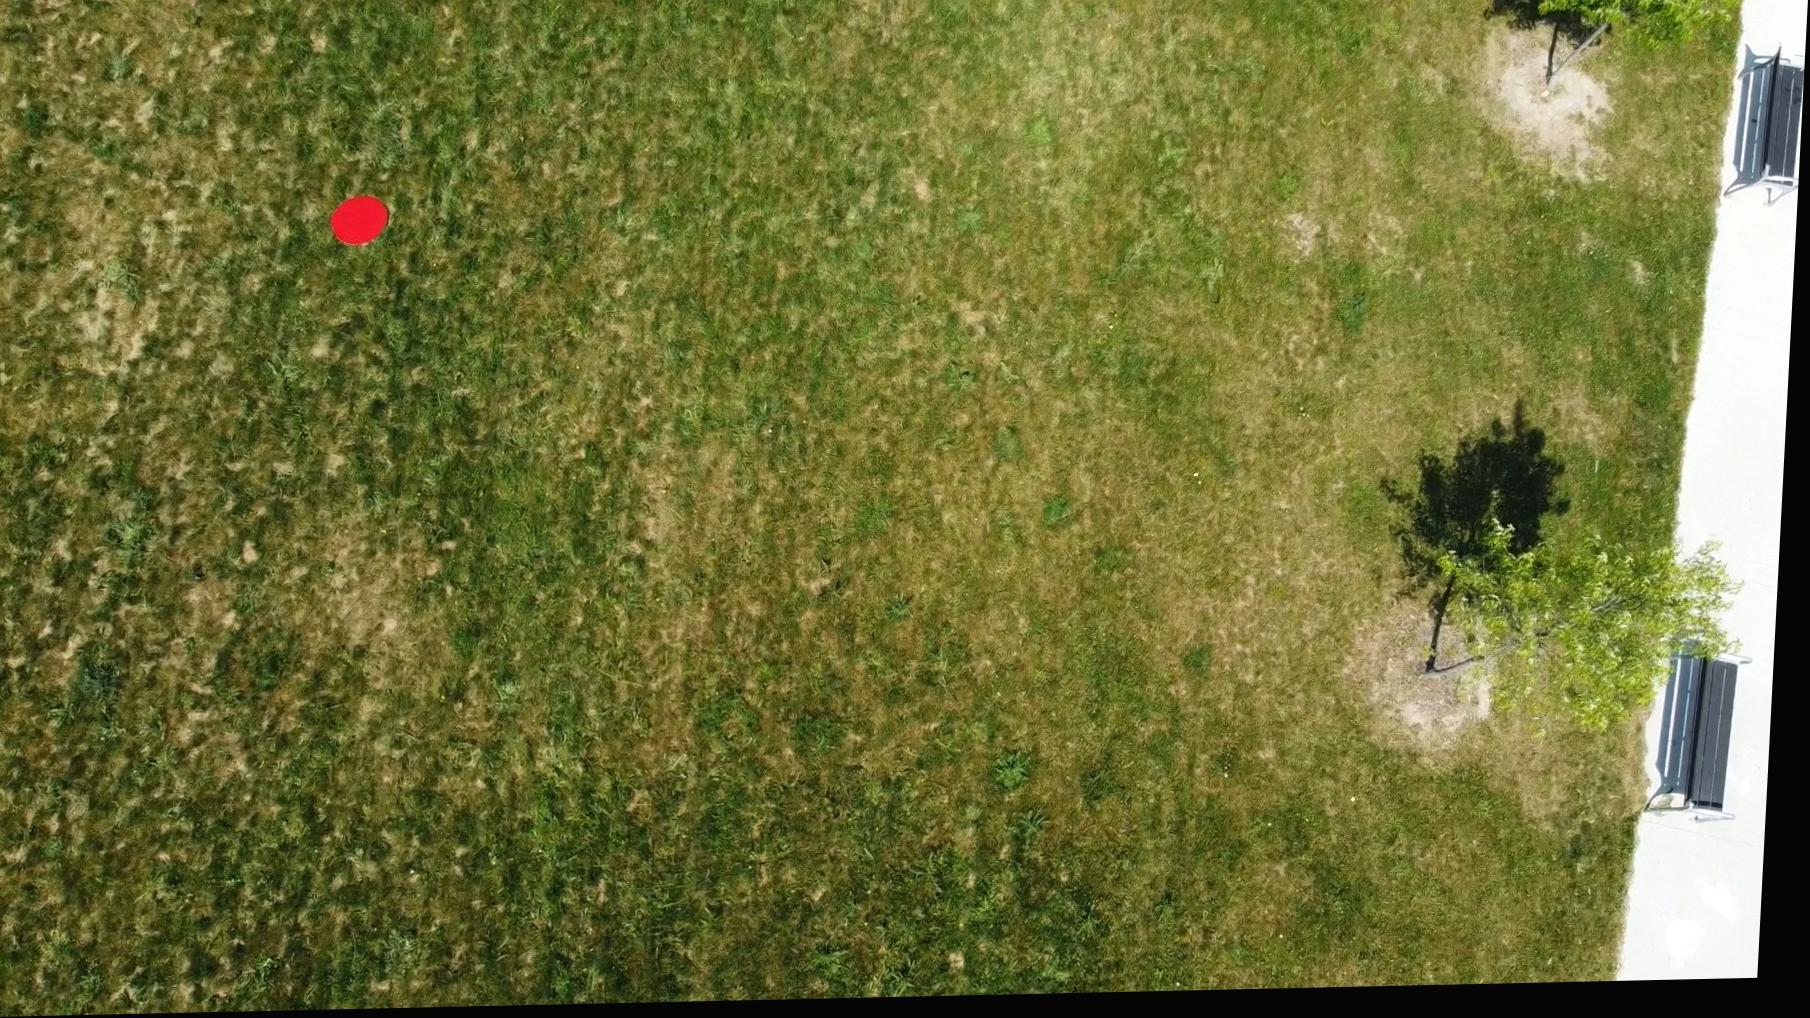Red: (328, 194, 395, 250)
